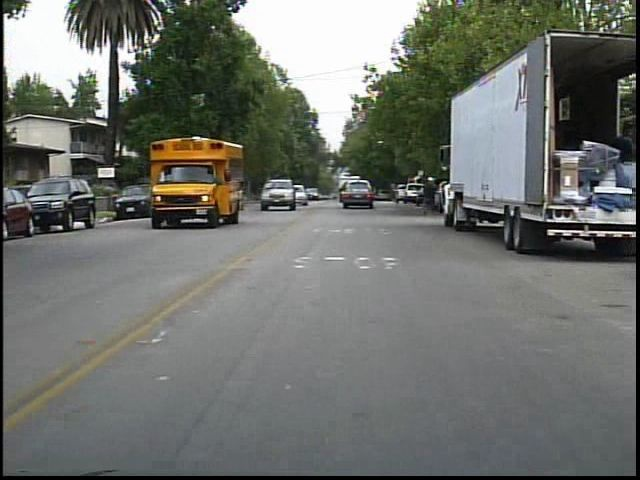person: (417, 173, 440, 220)
